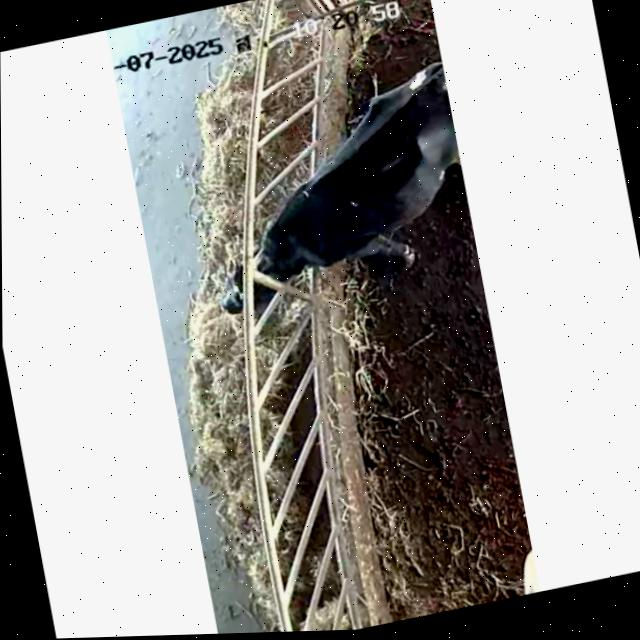eat: (173, 155, 417, 346)
